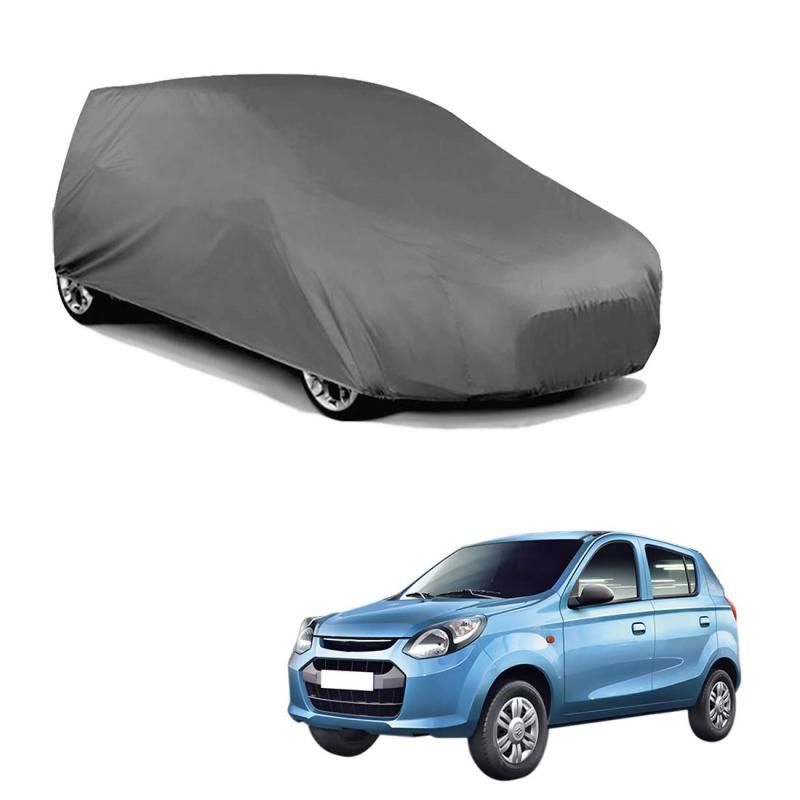car: (277, 490, 764, 752)
